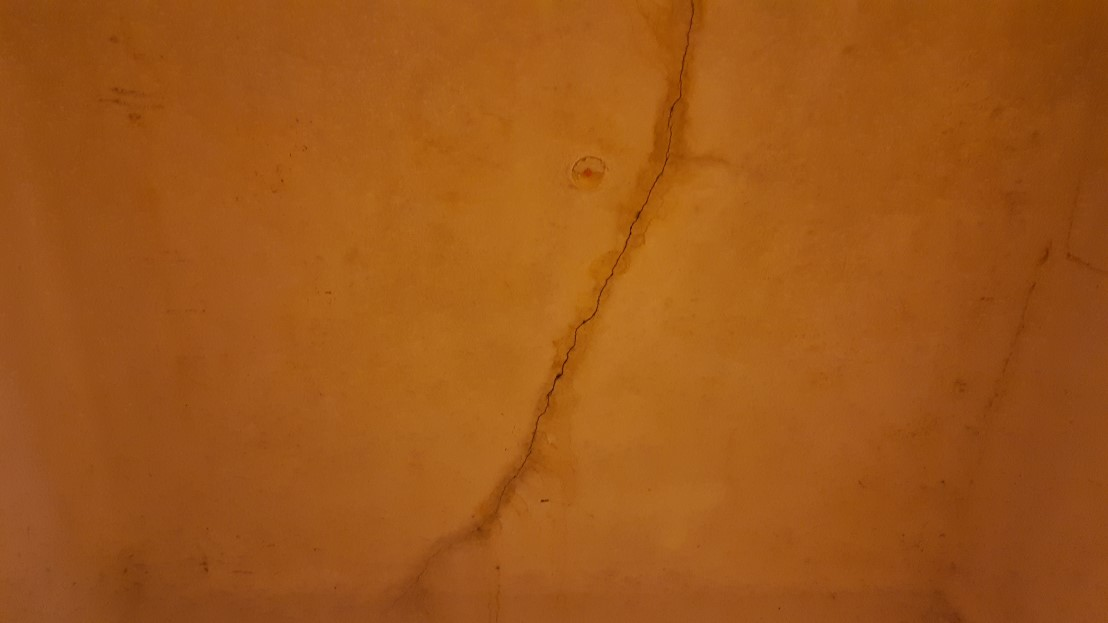Crack: (489, 0, 712, 507), (954, 227, 1055, 448), (379, 478, 507, 623), (1037, 91, 1108, 288), (479, 464, 539, 623)
